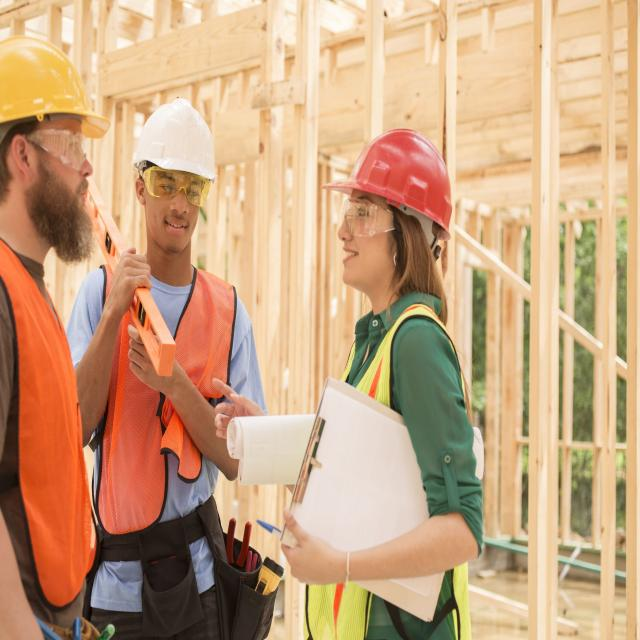Reflective-Jacket: (295, 301, 481, 640), (92, 255, 238, 539), (0, 212, 95, 628), (334, 297, 458, 404)
Safety-Helmet: (322, 120, 459, 243), (0, 33, 111, 149), (129, 93, 221, 186)
